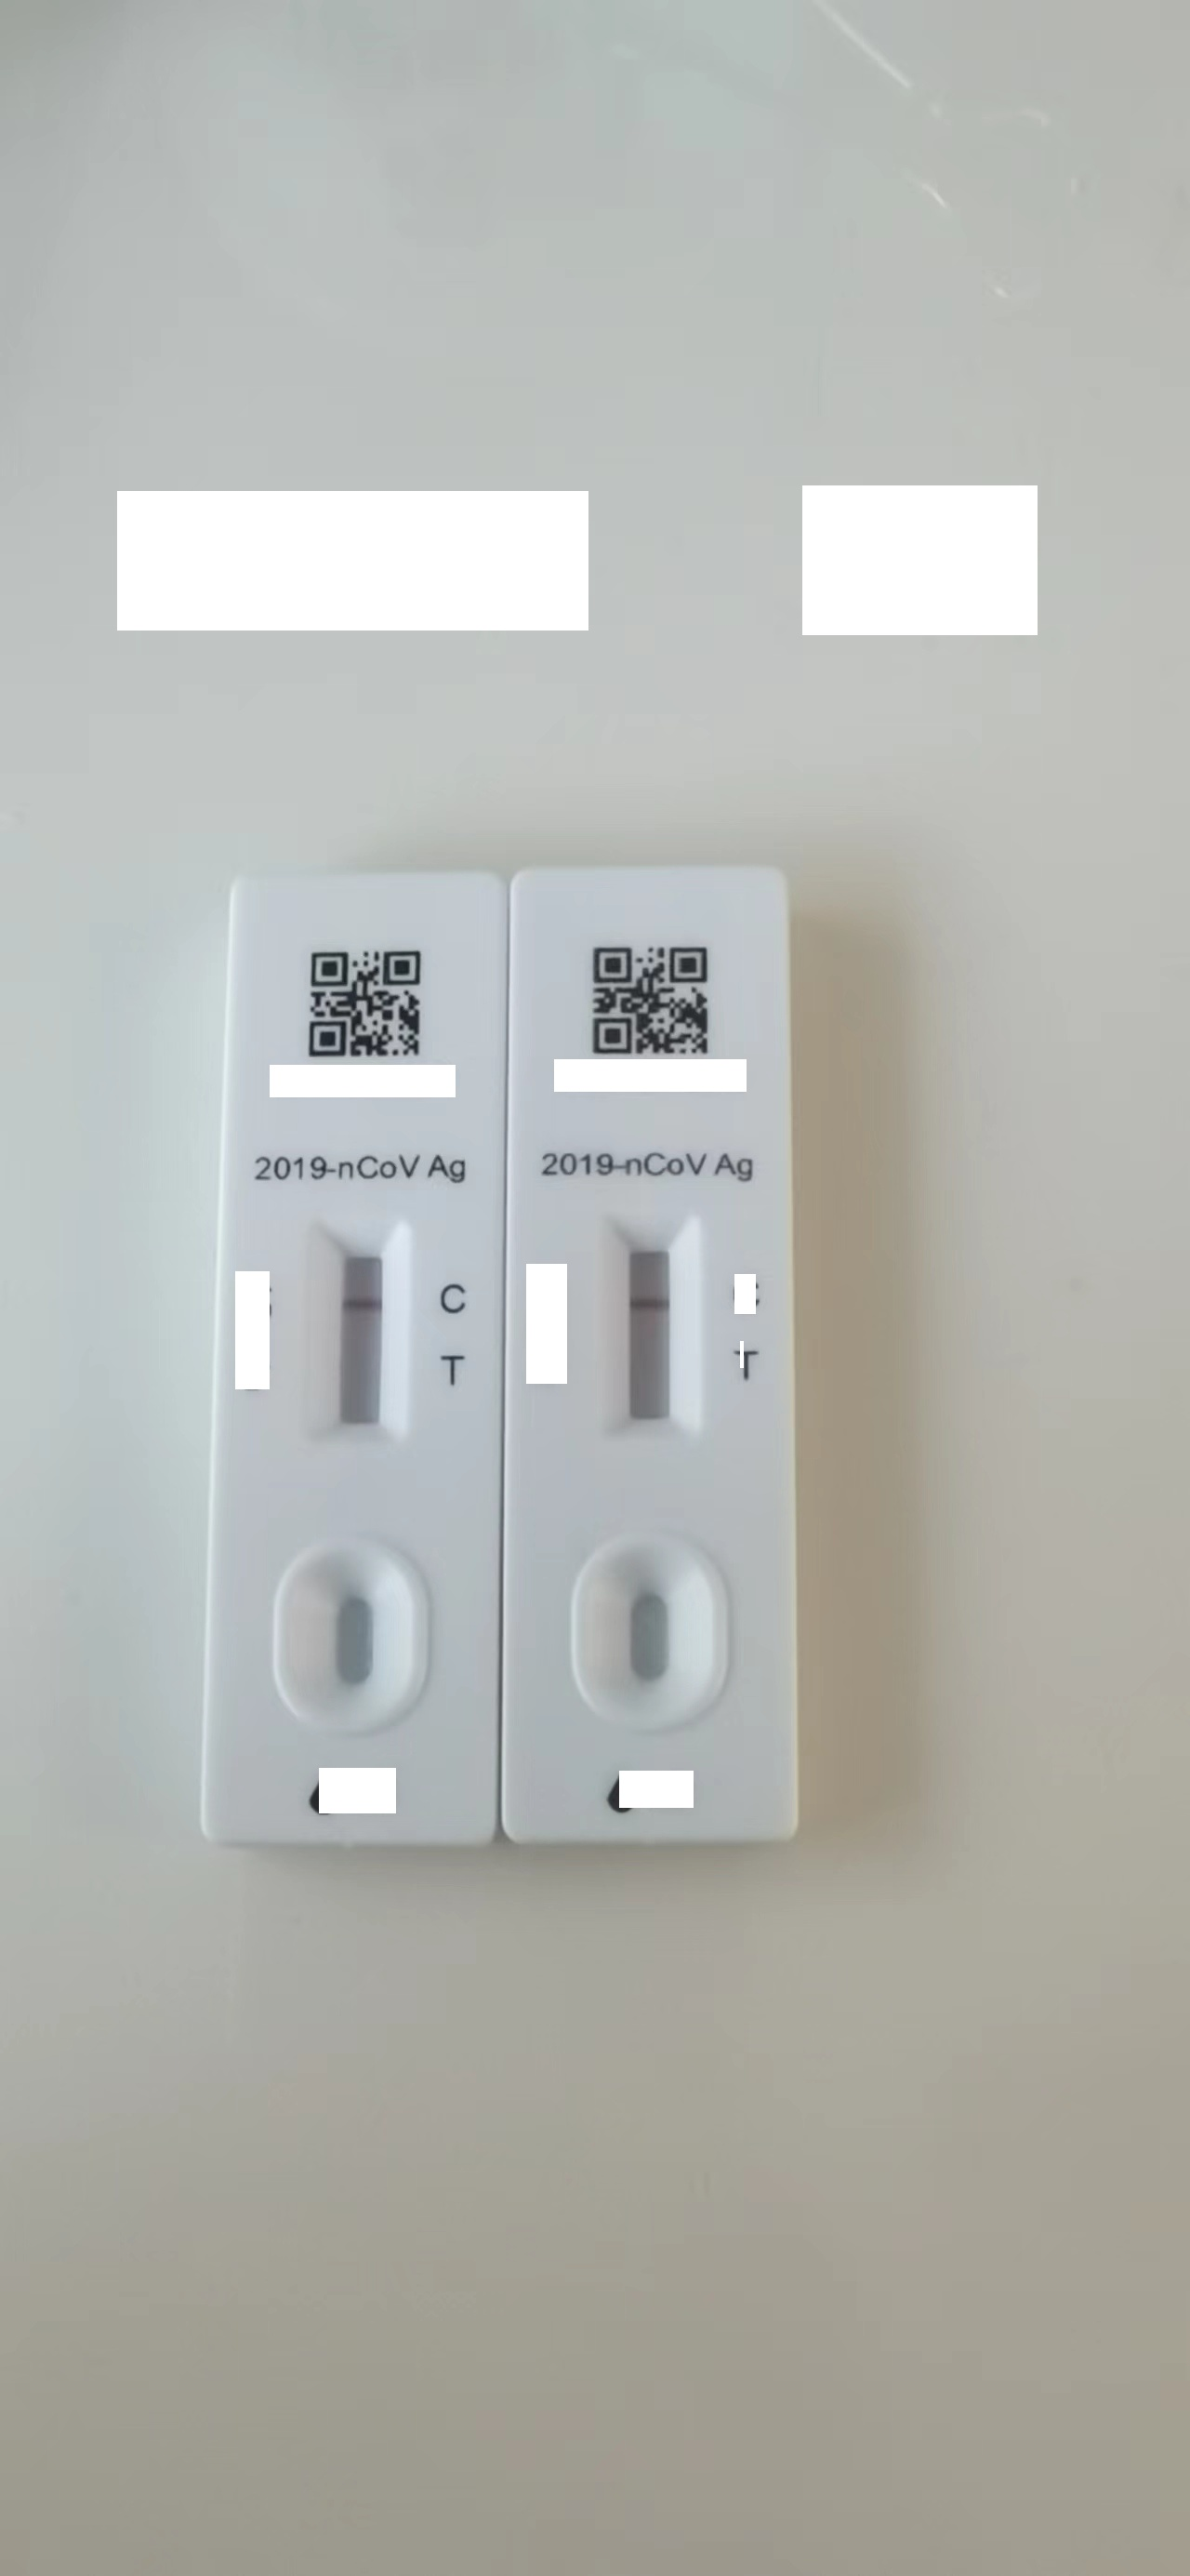negative: (606, 1224, 691, 1434), (317, 1235, 400, 1442)
